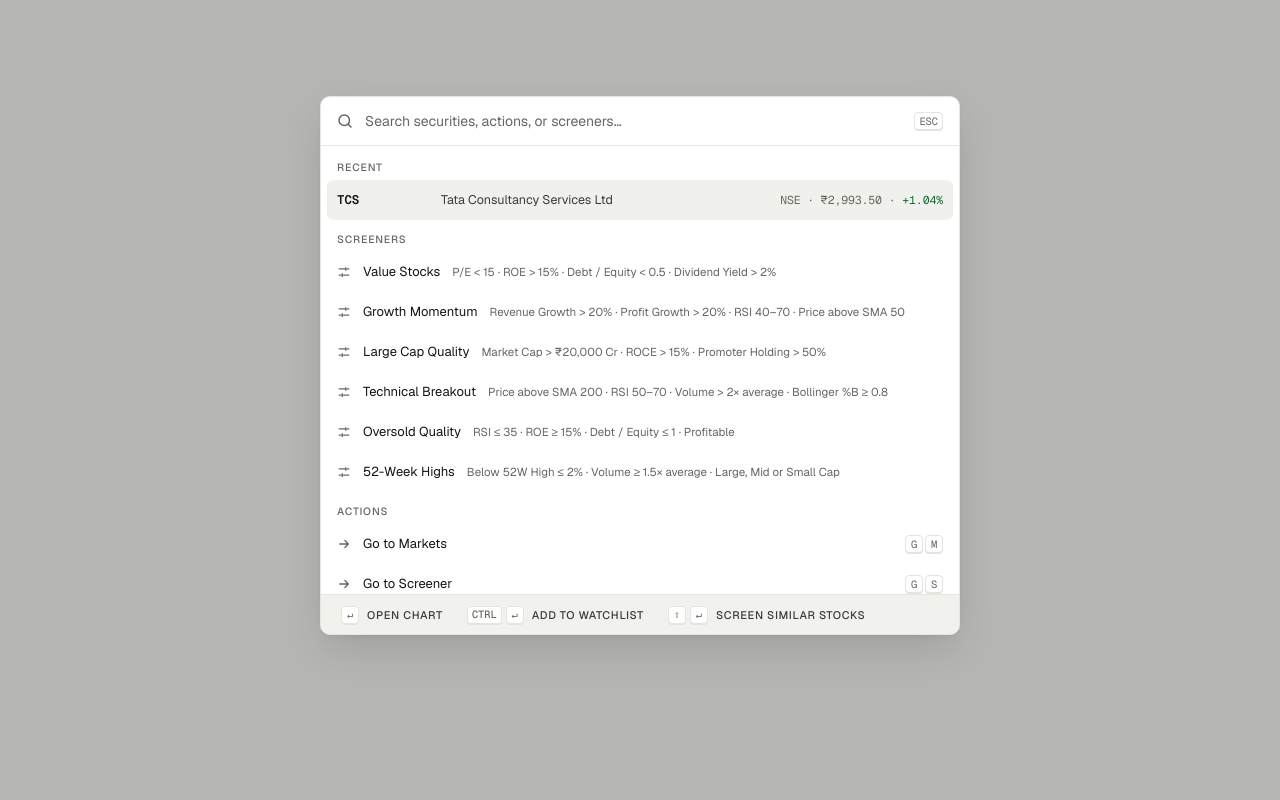
Test: command palette › says so when nothing matches
Type "qqqqzzzz" into the dropdown.
click(634, 121); type("qqqqzzzz")  # box 365,97 -> 902,145
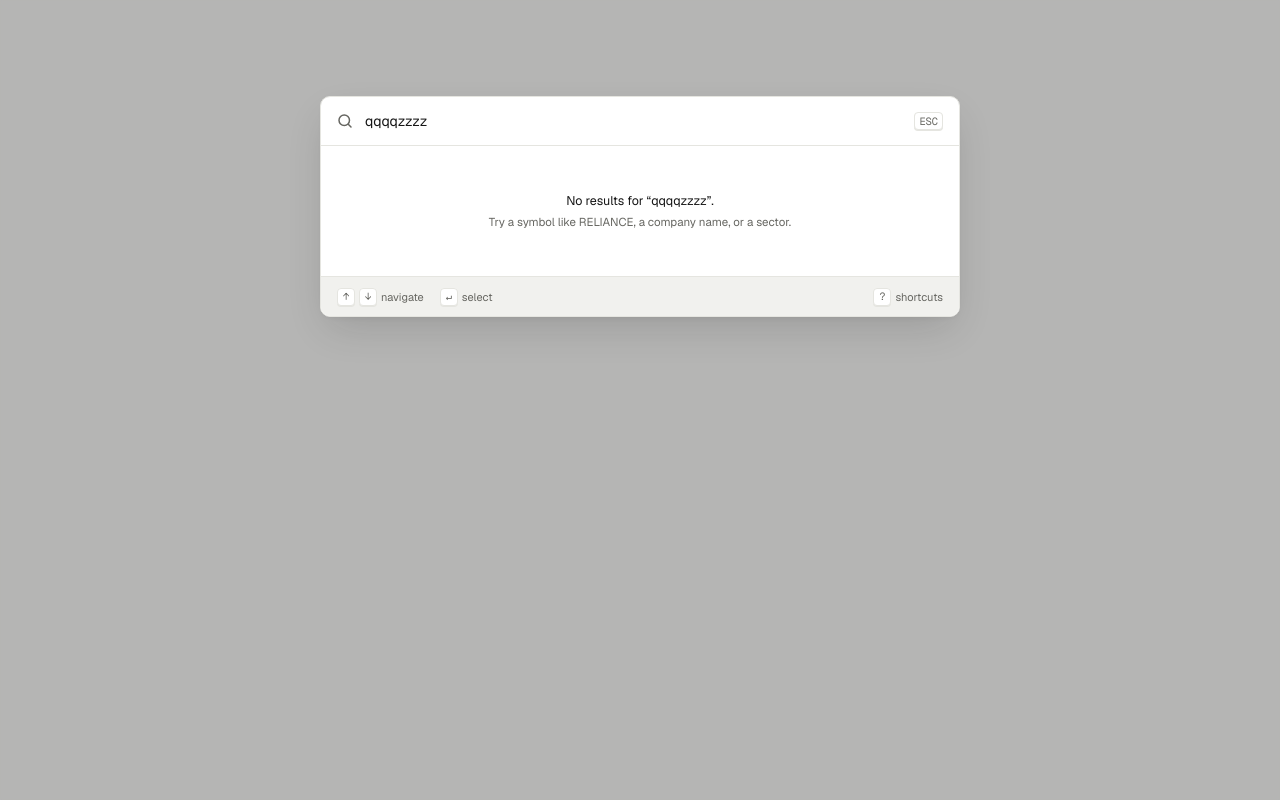
Check: the text "No results for “qqqqzzzz”." is shown, box 566,192 -> 714,209
